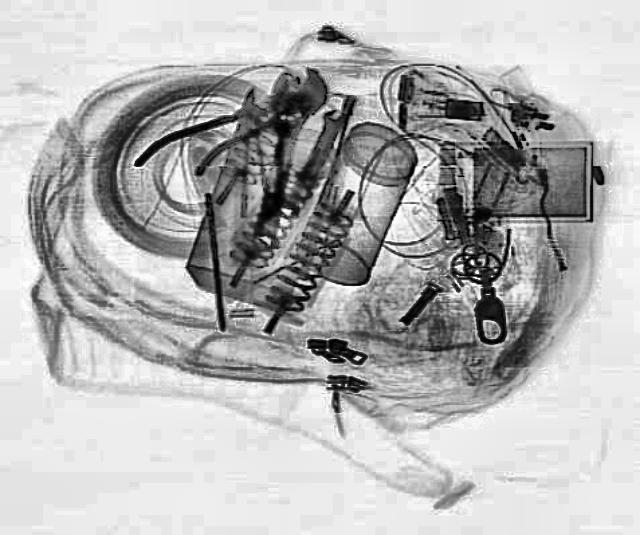Pliers: (129, 66, 327, 220), (190, 93, 322, 205)
Wrench: (240, 61, 328, 251)
